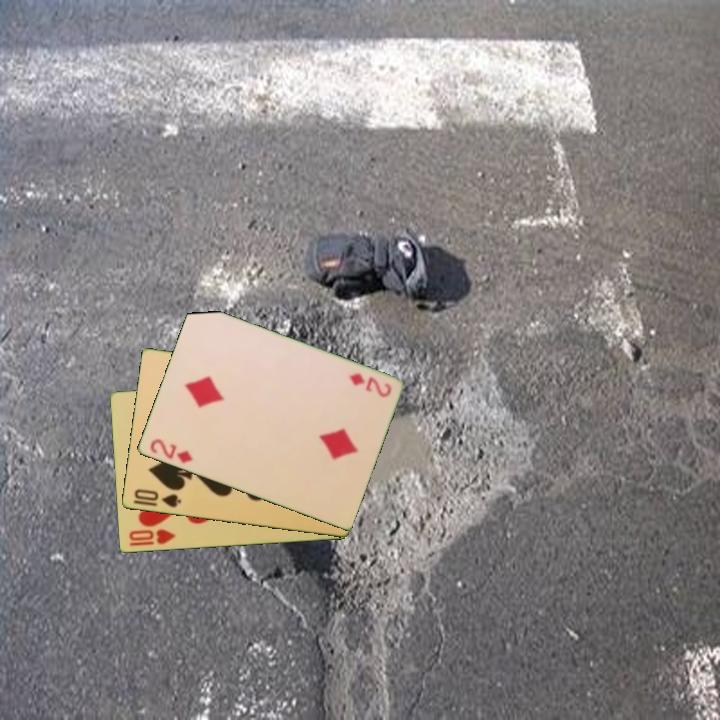10h: (125, 526, 178, 549)
10s: (131, 486, 184, 511)
2d: (146, 435, 196, 466), (345, 370, 394, 400)
